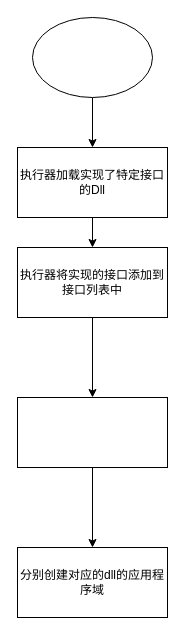
The diagram is 185 pixels wide and 635 high, and some of its shapes have lost their labels. The shapes that lost their labels are listed below. From the top down, each one's centre as x and y in pixels, then its label:
(x=92, y=57): 开始
(x=92, y=432): 读取接口列表
